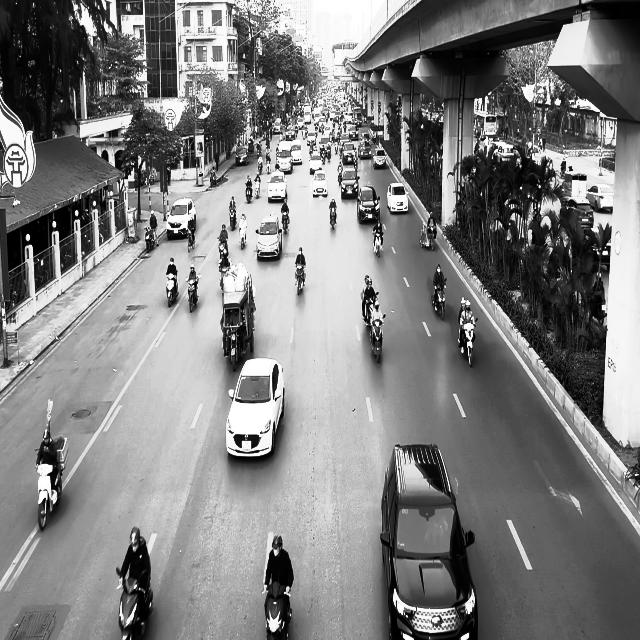bus: (473, 111, 507, 141)
car: (380, 442, 478, 639), (225, 357, 285, 458), (255, 214, 283, 260), (166, 198, 196, 240), (560, 197, 594, 230), (357, 186, 380, 222), (586, 184, 614, 212), (386, 182, 408, 213), (266, 172, 288, 202), (340, 168, 360, 198), (312, 169, 328, 197), (235, 146, 249, 165), (373, 148, 386, 168)
motorbike: (115, 566, 154, 639), (264, 584, 292, 639), (459, 318, 478, 367), (185, 274, 201, 312), (432, 278, 446, 320), (166, 273, 178, 307), (295, 263, 305, 295), (372, 228, 383, 257), (144, 226, 156, 252), (187, 226, 195, 252), (329, 205, 337, 230), (239, 226, 247, 249), (281, 212, 289, 234), (229, 206, 236, 230), (254, 176, 260, 198), (245, 184, 252, 202)
truck: (220, 261, 256, 371)
